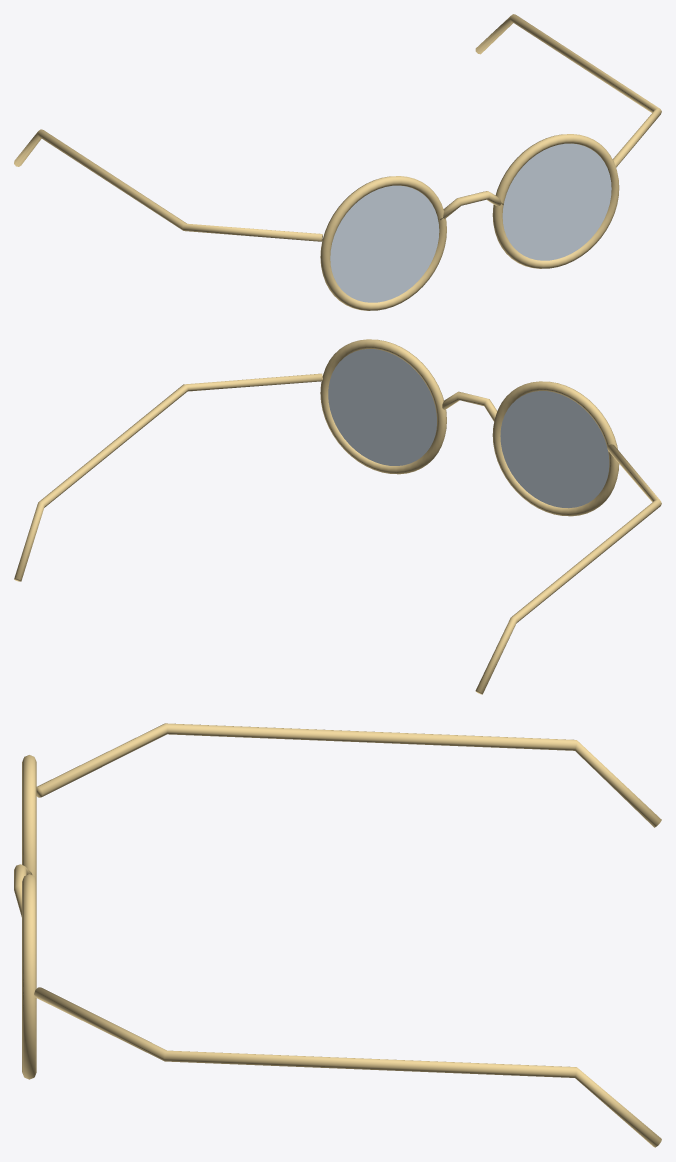
File: acc_glasses_round_female.glb
3 renders of one model, top to bottom at view 1: azimuth 30°, elevation 25°; view 2: azimuth 150°, elevation 25°; view 3: azimuth 270°, elevation 25°, orthographic. The views are drawn at different scales.
Parts seen in each view (by area): view 1: glasses_round; view 2: glasses_round; view 3: glasses_round.
Boxes of the visible parts, box(x1,y1,x2,y2) form: glasses_round: box(14, 14, 661, 310); glasses_round: box(14, 339, 661, 694); glasses_round: box(14, 723, 661, 1147).
Bounding box in the file's own units: 0.1726 × 0.0452 × 0.1423.
